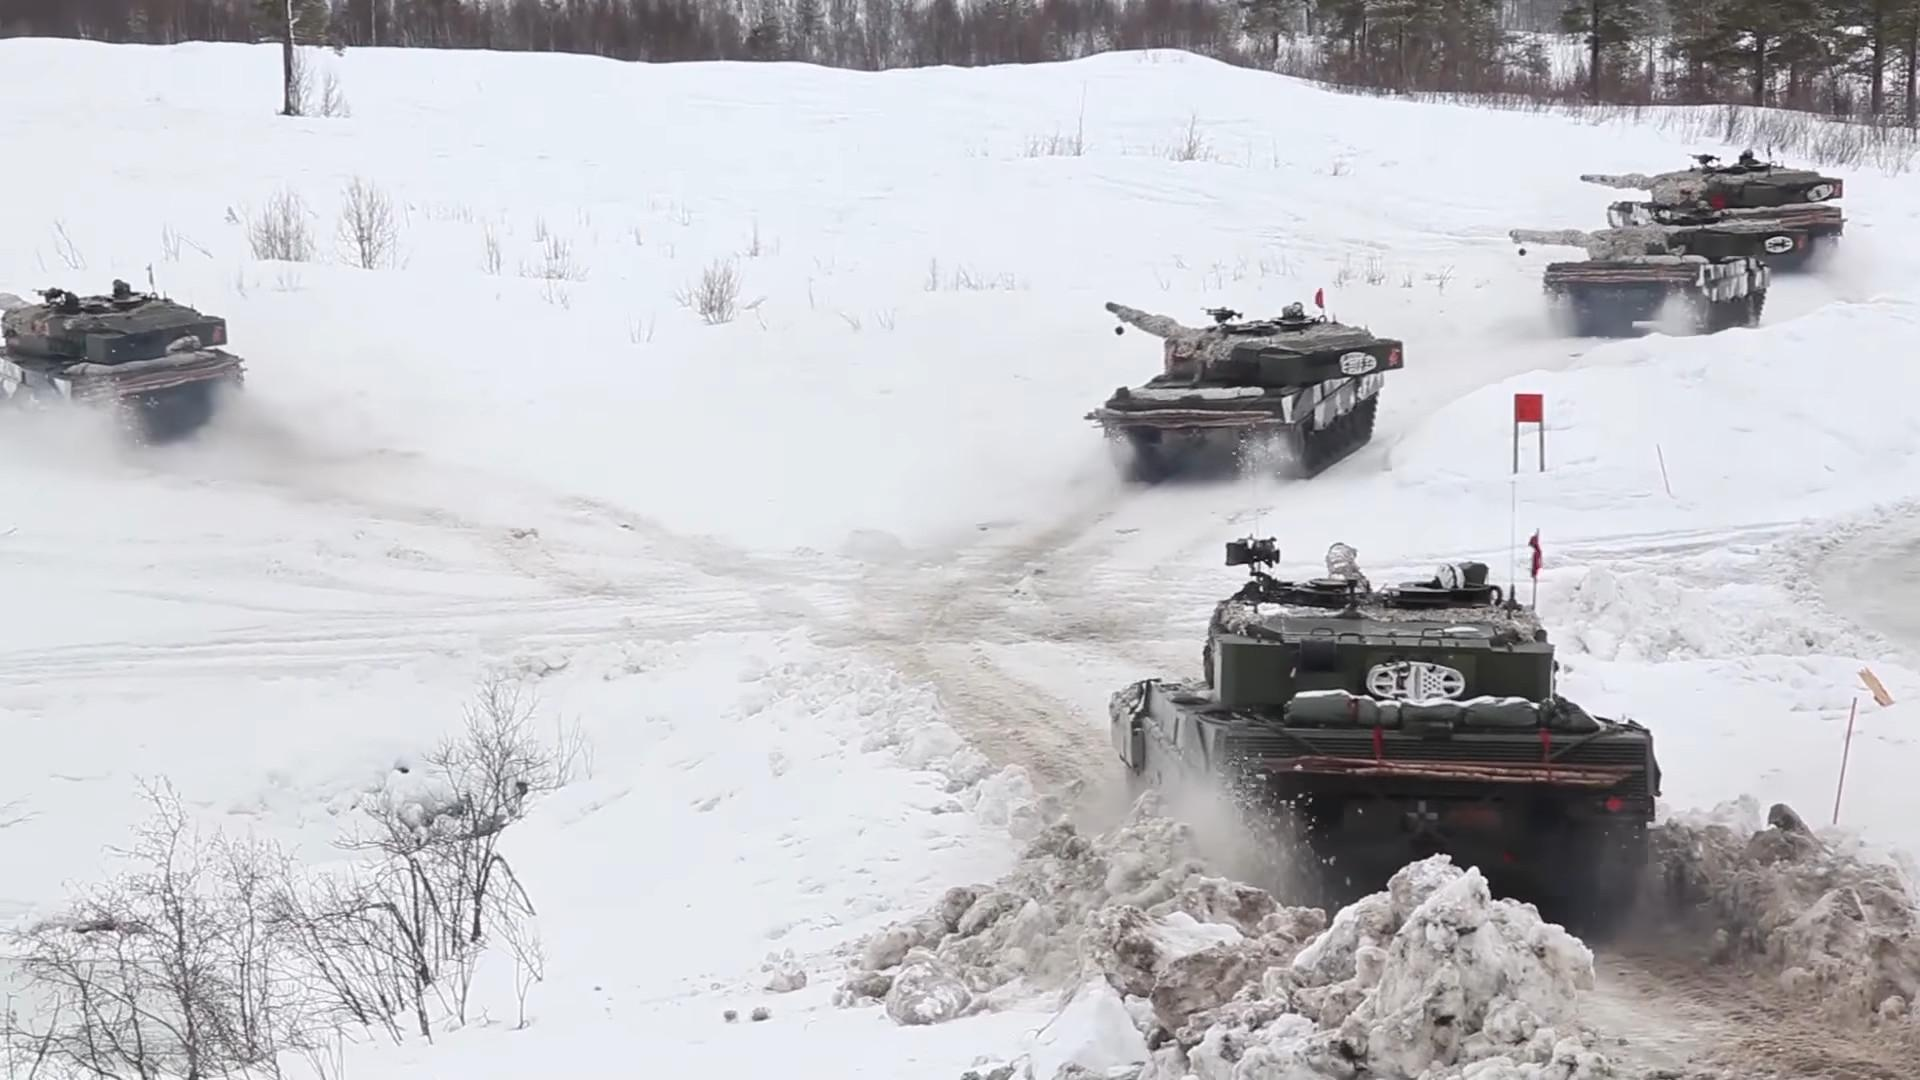tank: (1104, 560, 1662, 937), (1088, 302, 1403, 480), (0, 280, 245, 443), (1579, 161, 1846, 273), (1508, 225, 1770, 337)
